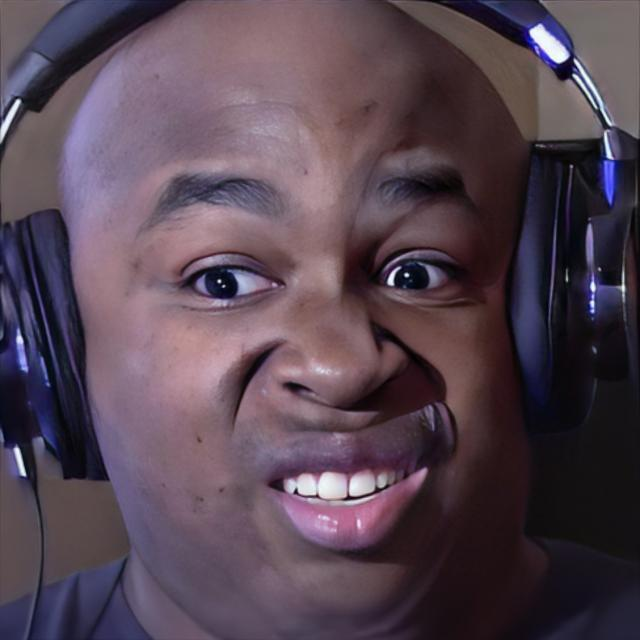disgust: (59, 1, 533, 640)
